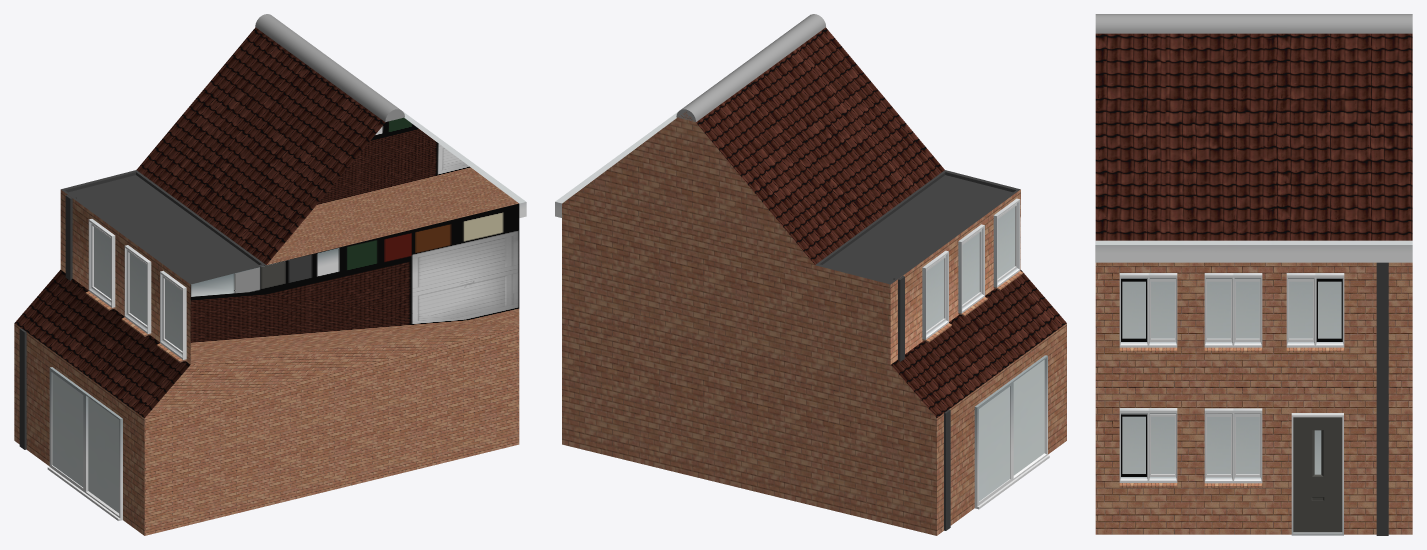
Rendered from It_Heafek_4.fbx.
3 views of the same model, side by side, from view 1: azimuth 30°, elevation 25°; view 2: azimuth 150°, elevation 25°; view 3: azimuth 270°, elevation 25° (orthographic). The views are drawn at different scales.
Visible parts, largest first — view 1: It_Heafek_4; view 2: It_Heafek_4; view 3: It_Heafek_4.
Part boxes in pixels (bbox=[...]): It_Heafek_4: bbox=[14, 14, 526, 535]; It_Heafek_4: bbox=[555, 14, 1066, 535]; It_Heafek_4: bbox=[1095, 14, 1412, 535].
Size of the model in its own units: 977 by 883 by 571.
